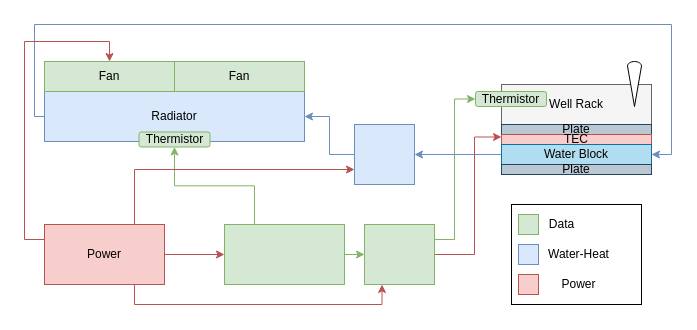
The diagram is 697 pixels wide and 330 high, and some of its shapes have lost their labels. Each missing label, with the centre of its shape:
Microcontroller: point 284,254
Motor Controller: point 399,254
Pump: point 384,154
